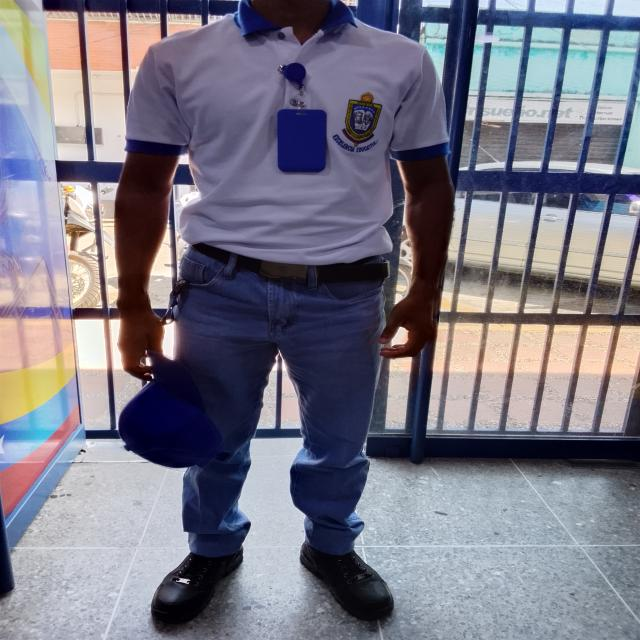carnet: (276, 109, 328, 172)
uniforme_superior: (124, 0, 452, 266)
